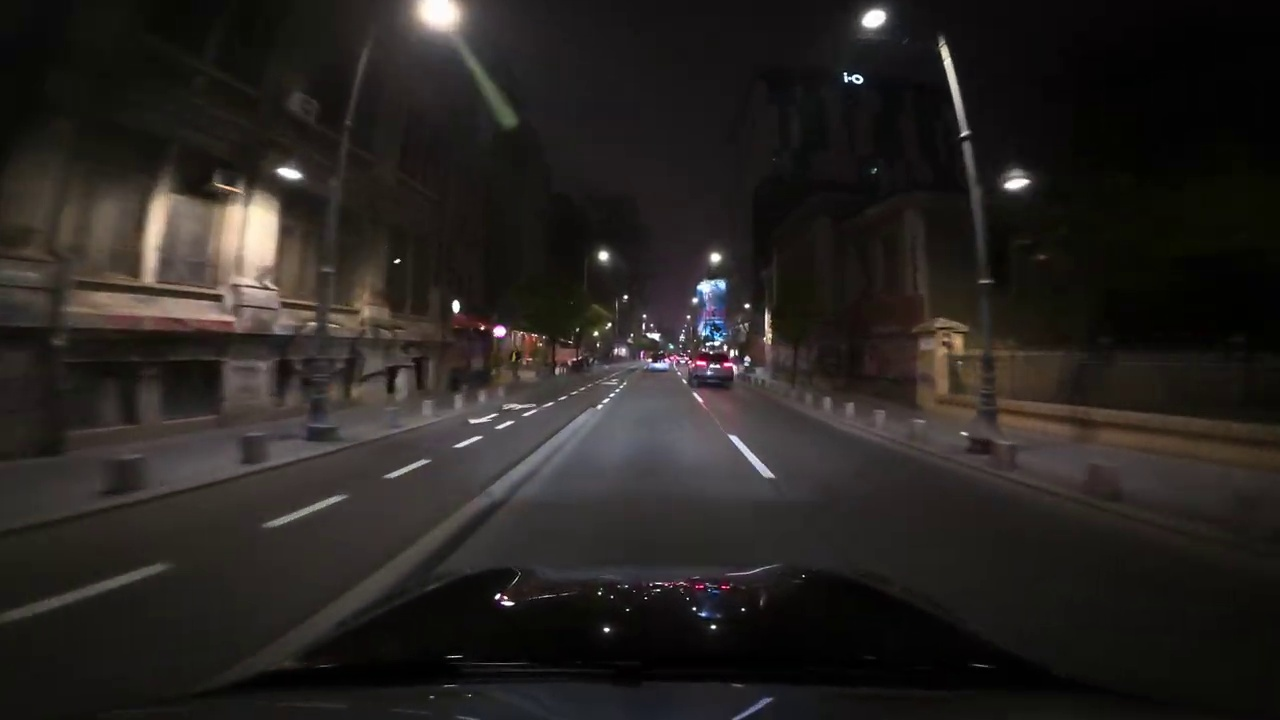acesa: (414, 0, 462, 38), (276, 164, 305, 186), (592, 246, 615, 269), (704, 248, 726, 269)
